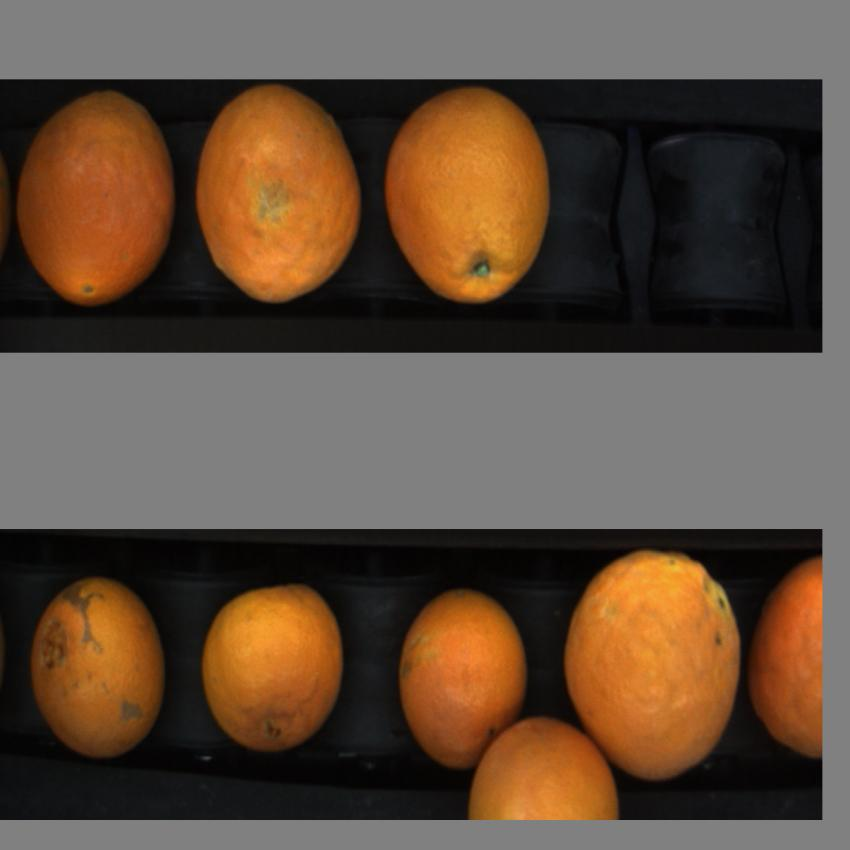Buen estado: (563, 546, 744, 788), (382, 86, 556, 318), (194, 82, 368, 310), (13, 88, 181, 319), (199, 570, 347, 760), (25, 574, 170, 766), (395, 583, 532, 784), (468, 715, 623, 820), (751, 553, 822, 767)
